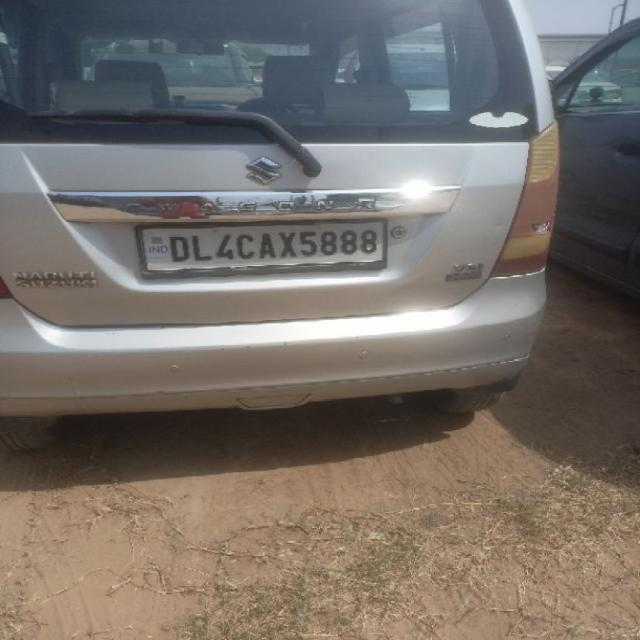license_plate: (134, 216, 388, 278)
